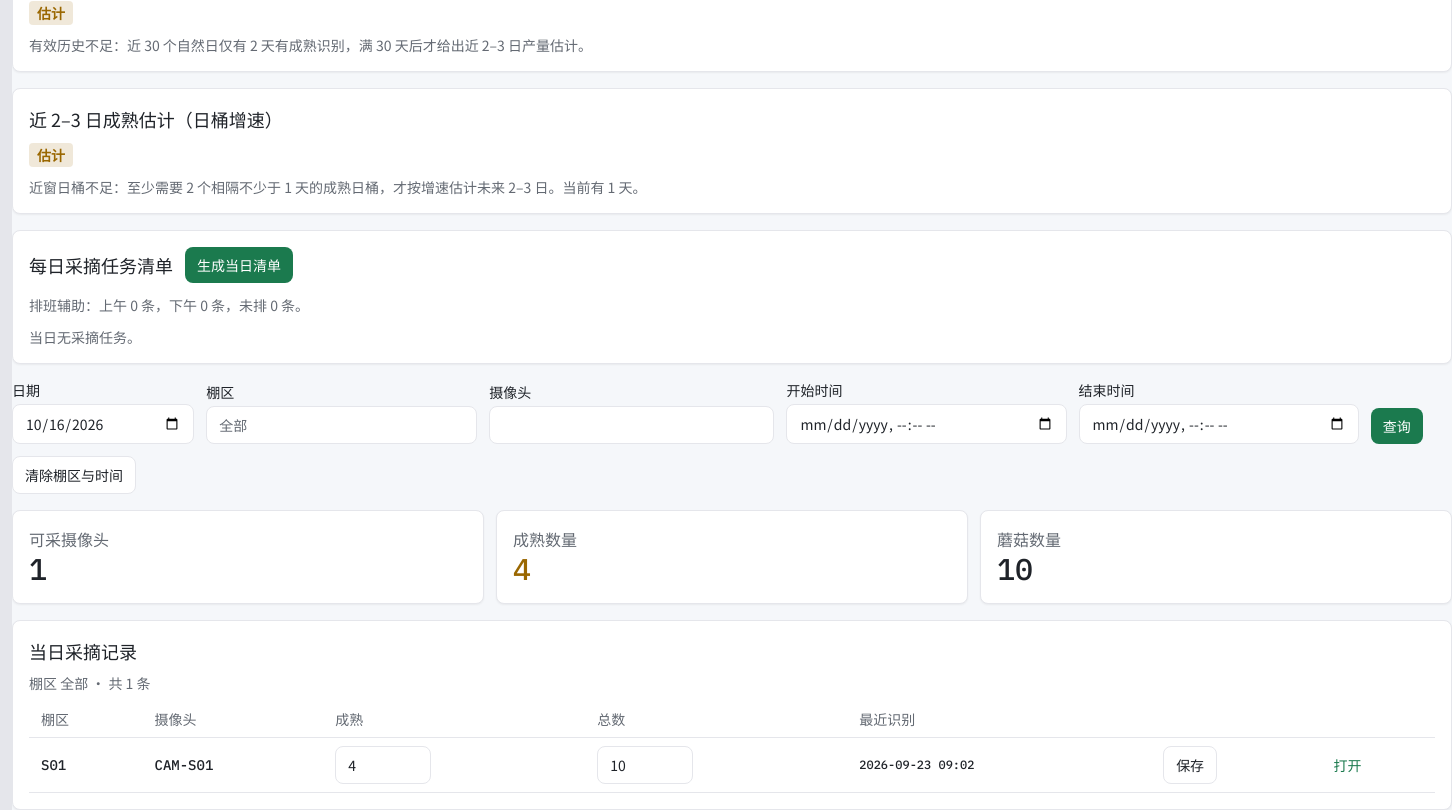
Test: HarvestView correction › super_admin can edit the mature count and the summary refreshes after save
(page scrolled)
Replace the text in the number field named "CAM-S01 成熟数" with "6": point(383, 765) [335,746,431,784]
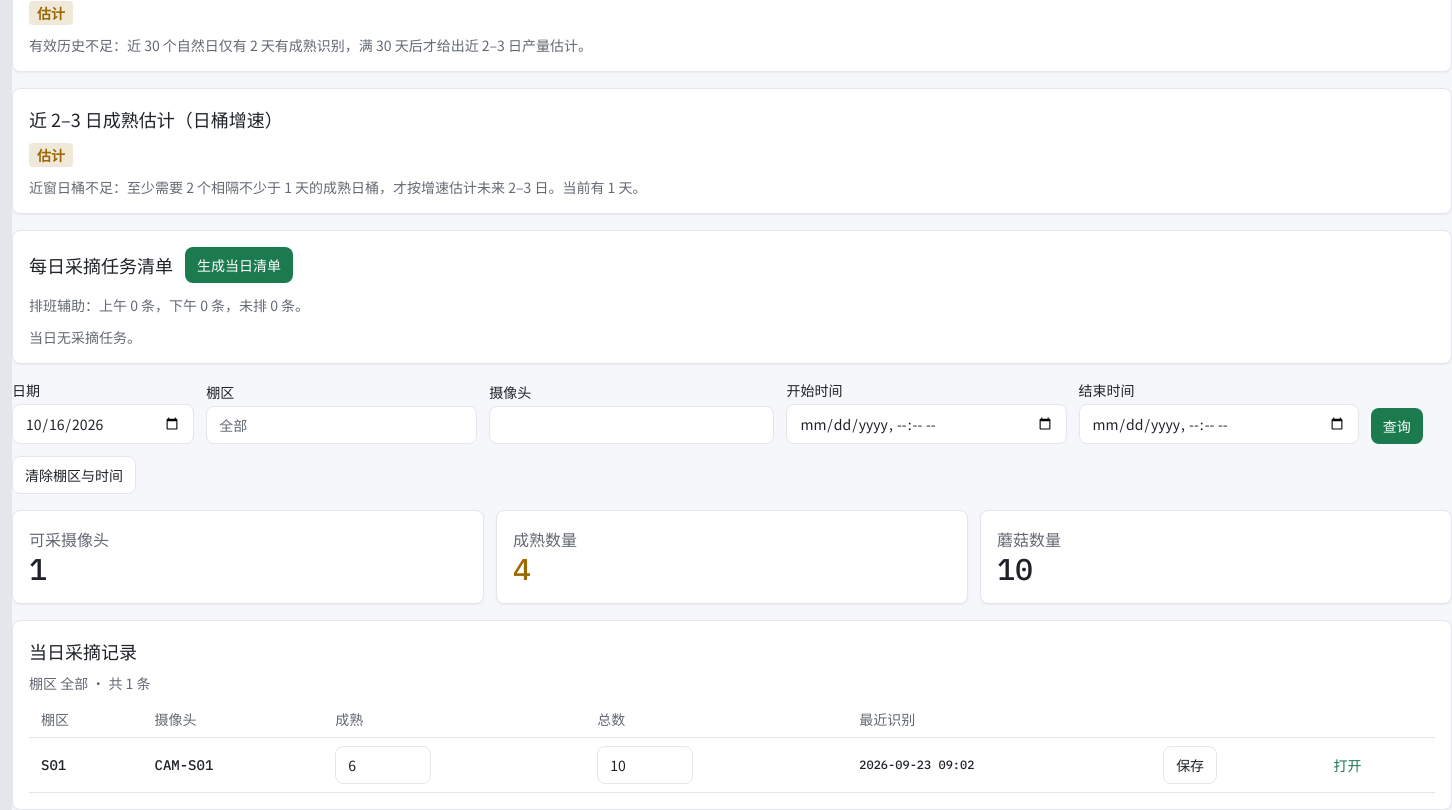
Click the button with class "btn-ghost" showing "保存": point(1190, 765) [1163,746,1217,784]
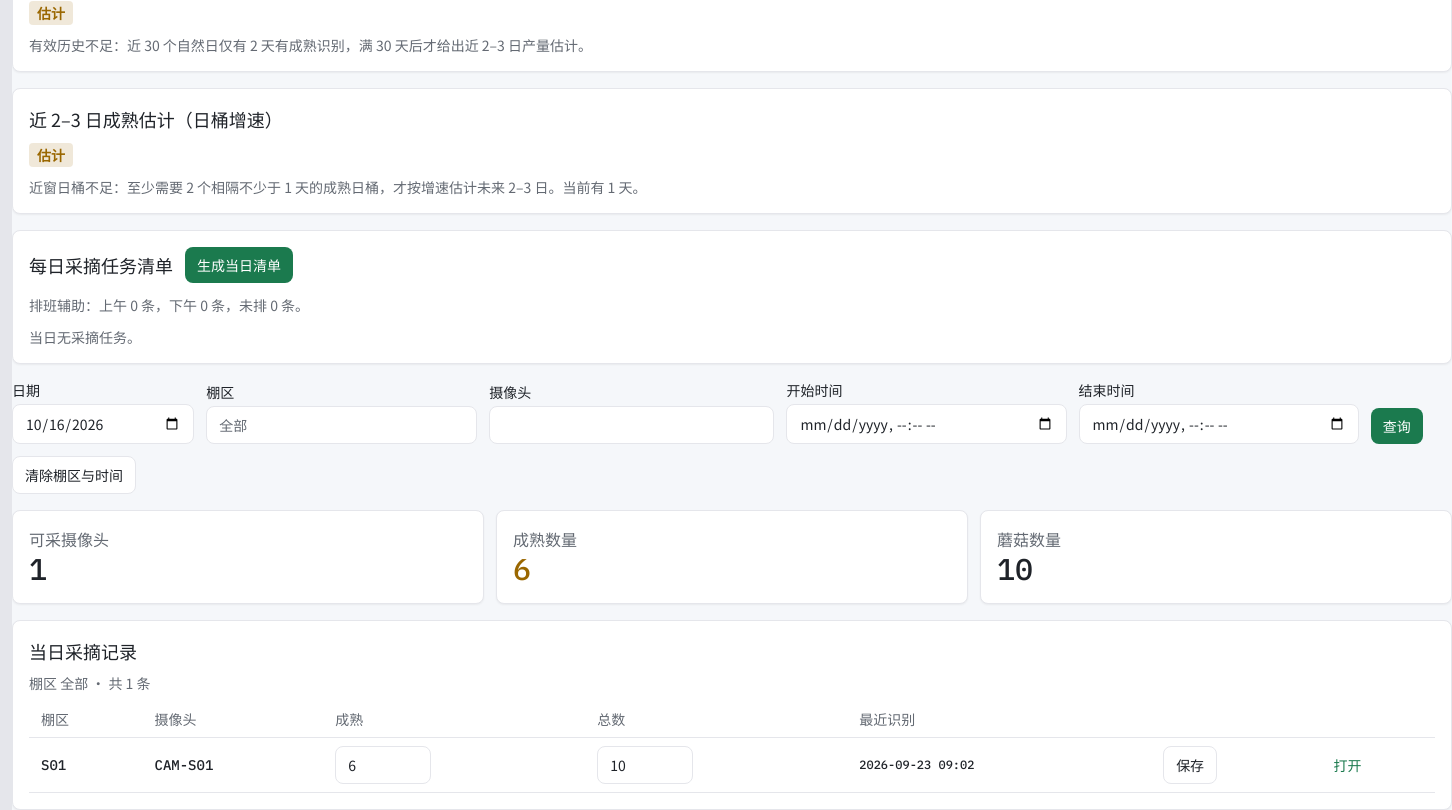
Expected: the table is shown, [29,701,1435,793]
Expected: the element showing "成熟数量 6" is shown, [496,510,968,604]
